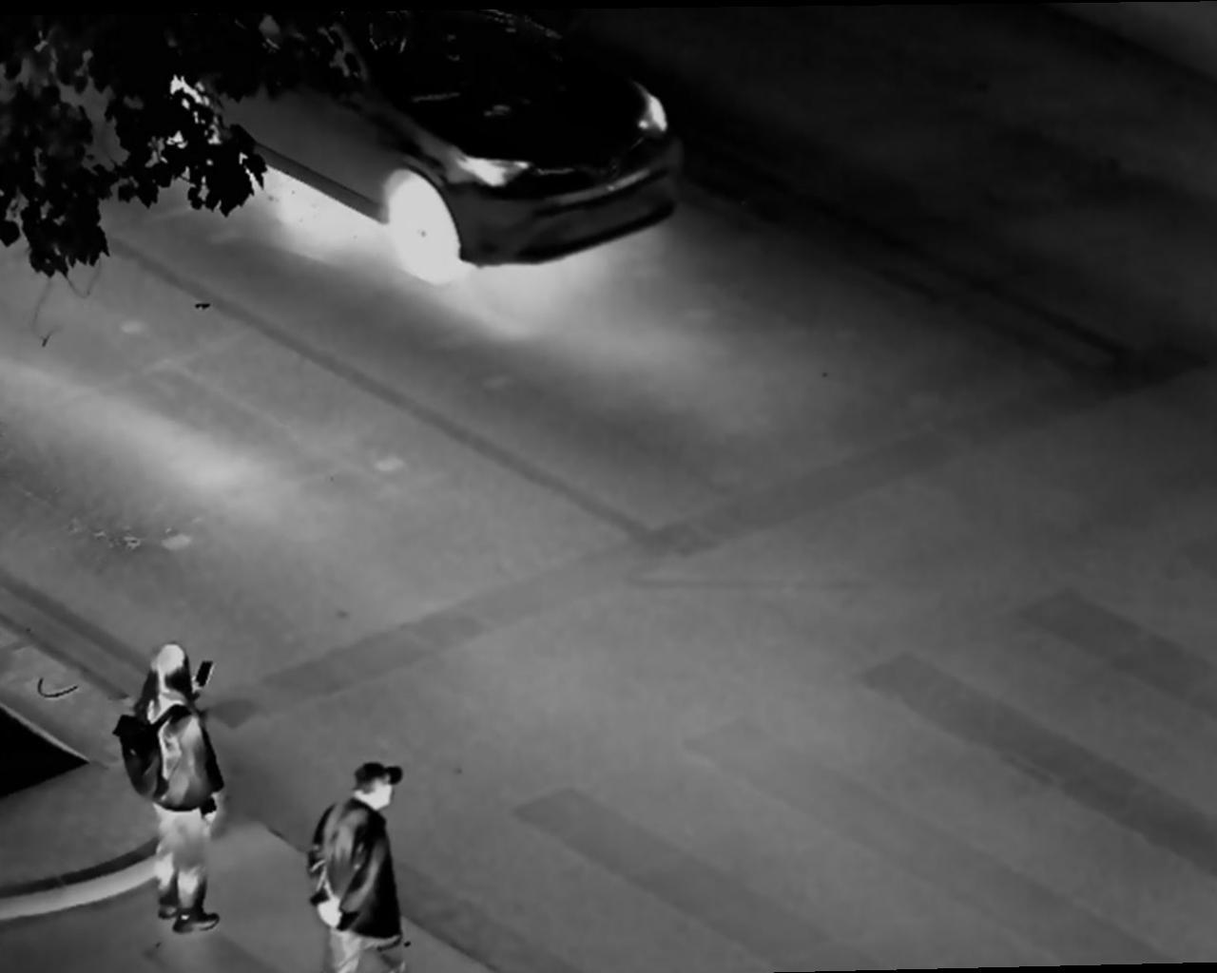person: (112, 639, 238, 939), (310, 755, 427, 973)
